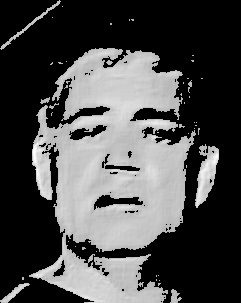nose_M_C: (97, 136, 146, 188)
